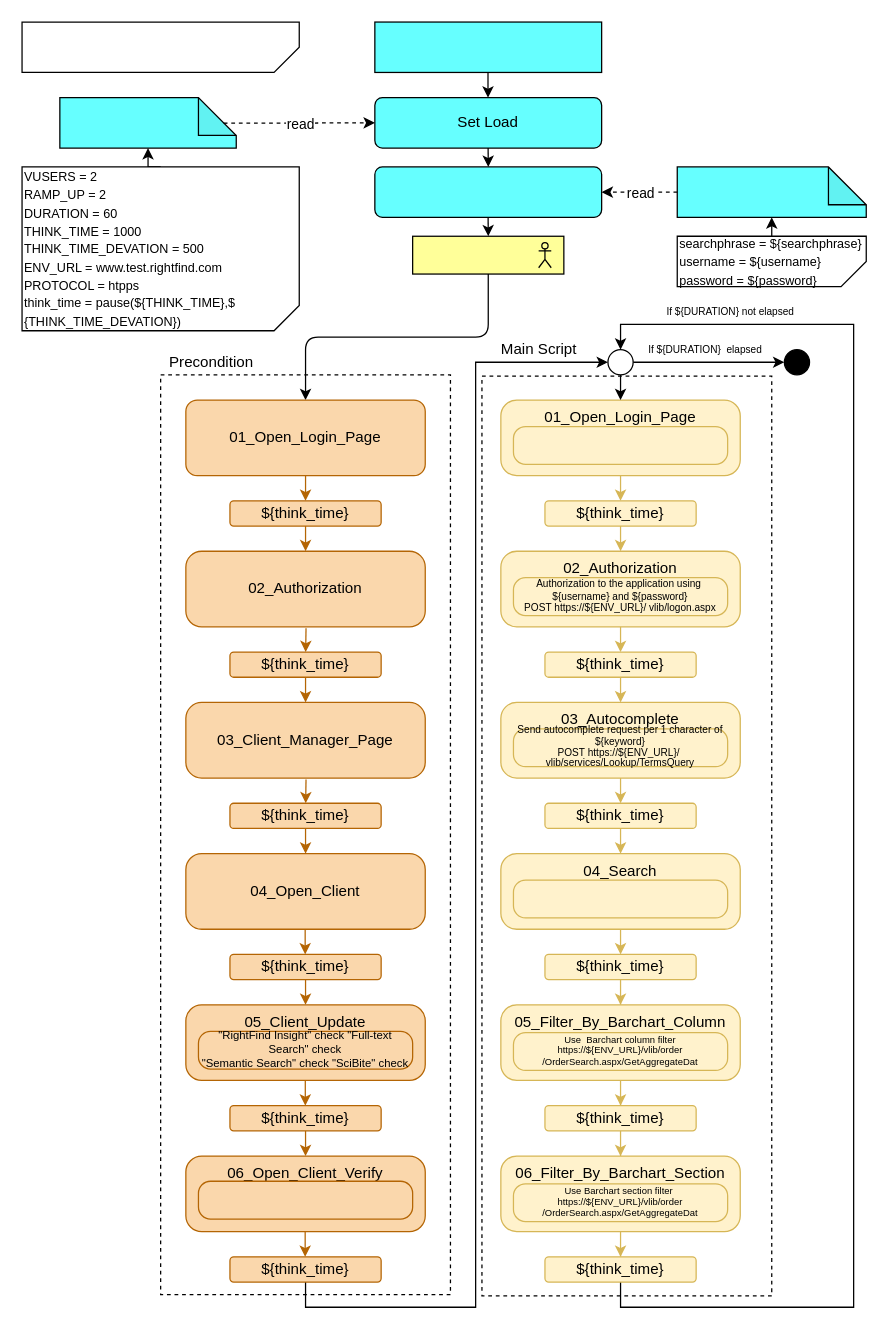
Some shapes in this 888 by 1339 pixel diagram are drawn without their labels. The centre of each missing label's shape, as x and y in pixels:
5_3_RFE_UI_Search_Semantic_ Search_Barchart_Aggregation: pixel 160 46
Load Model: pixel 147 122
Open application main page - GET https://${ENV_URL}/: pixel 620 444
Search for specific ${keyword} GET https://${ENV_URL}/vlib/order/ordersearch.apx: pixel 620 898
Set Test Data: pixel 488 191
Start Test: pixel 488 46
Test Data: pixel 771 191
Verify Precondition setup: pixel 305 1199
vUser: pixel 487 254
